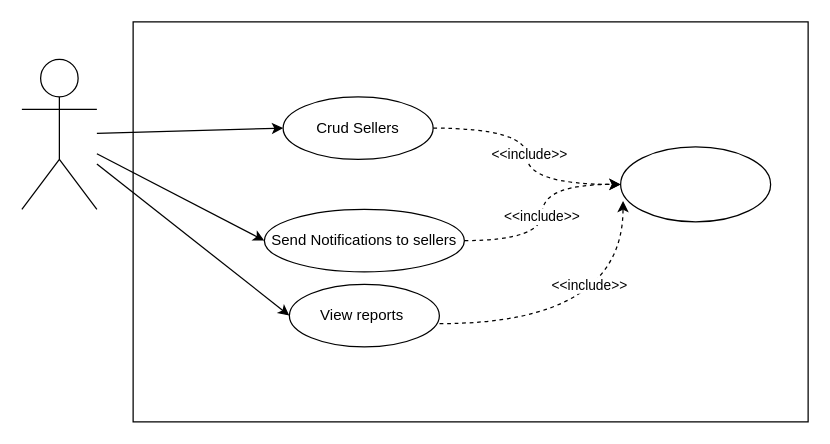
The diagram is 830 pixels wide and 444 high, and some of its shapes have lost their labels. Here are the shapes that lost their labels. From the top down, the centre of each, then its label:
pixel 59 133: Admin
pixel 695 184: Login
